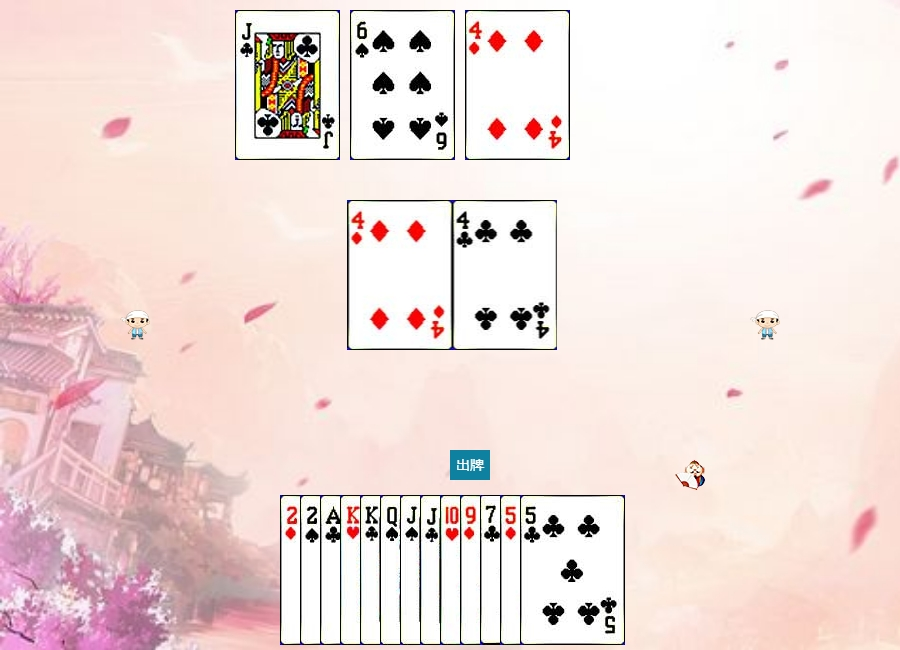10~3: (440, 495, 545, 645)
11~2: (235, 10, 340, 160), (420, 495, 525, 645)
11~4: (400, 495, 505, 645)
12~4: (380, 495, 485, 645)
13~2: (360, 495, 465, 645)
13~3: (340, 495, 445, 645)
14~2: (320, 495, 425, 645)
15~1: (280, 495, 385, 645)
15~4: (300, 495, 405, 645)
4~1: (465, 10, 570, 160), (348, 200, 453, 350)
4~2: (453, 200, 558, 350)
5~1: (500, 495, 605, 645)
5~2: (520, 495, 625, 645)
6~4: (350, 10, 455, 160)
7~2: (480, 495, 585, 645)
9~1: (460, 495, 565, 645)
